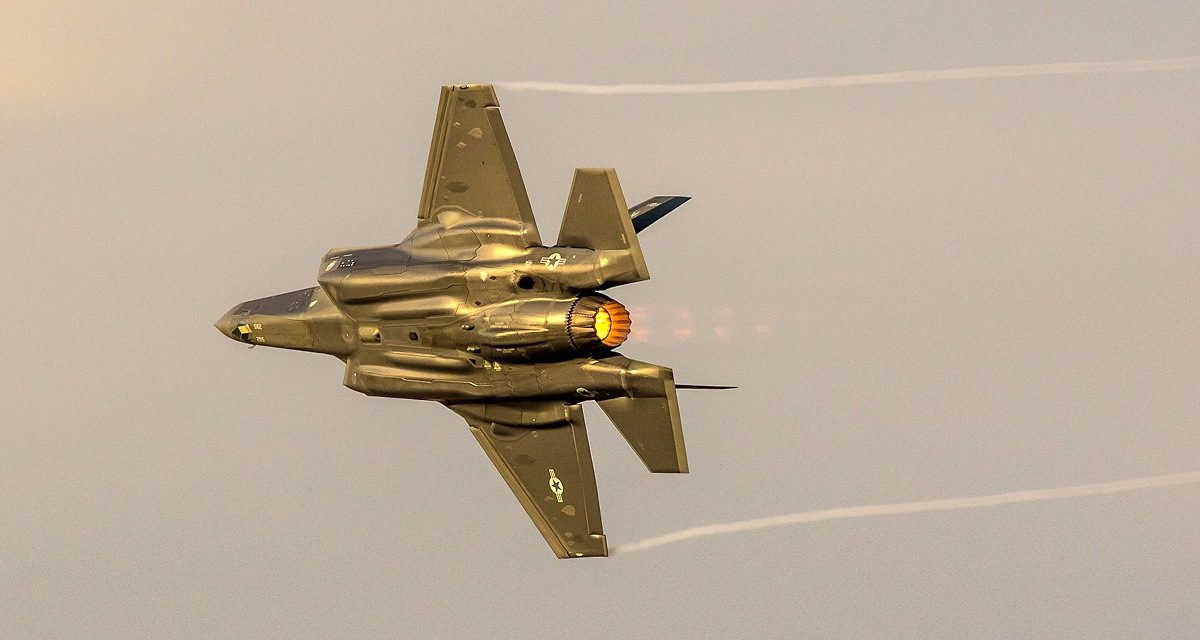F35: (210, 80, 745, 563)
